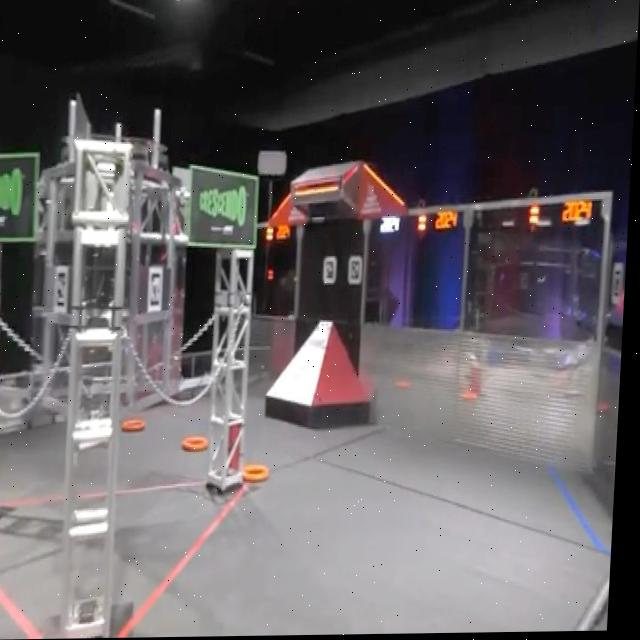note: (247, 462, 275, 484), (186, 435, 213, 453), (126, 418, 151, 434)
